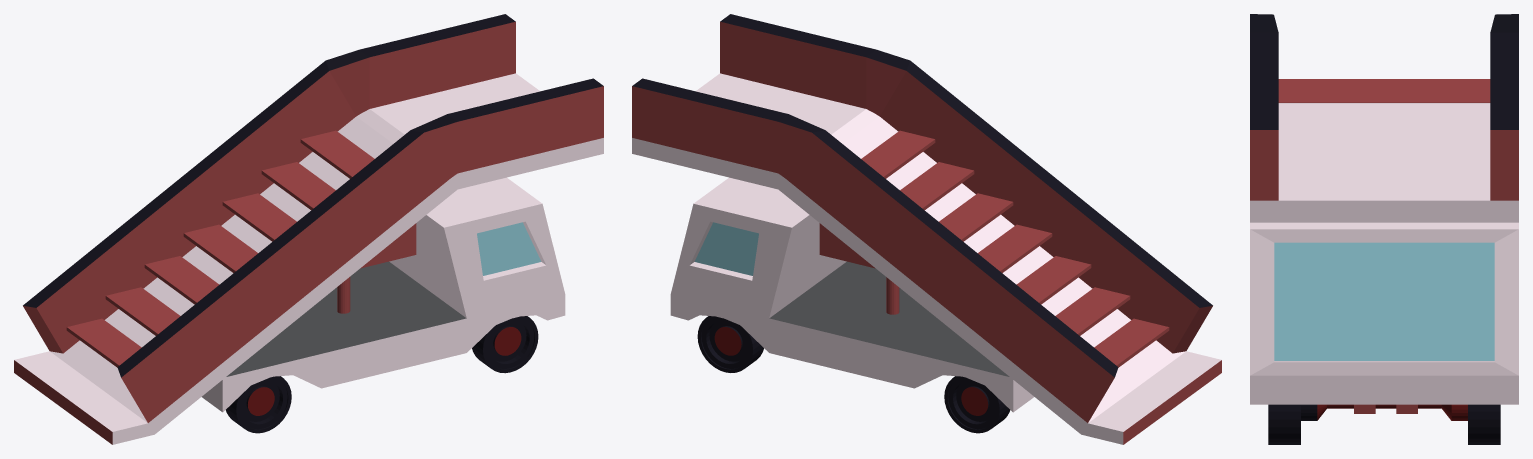
File: planestaircar.fbx
The picture shows the model from 3 angles, left to right: view 1: azimuth 30°, elevation 25°; view 2: azimuth 150°, elevation 25°; view 3: azimuth 270°, elevation 25°; orthographic projection. The views are drawn at different scales.
Visible parts, largest first — view 1: Cube.001; view 2: Cube.001; view 3: Cube.001.
Part boxes in pixels (left/top/right/bottom): Cube.001: left=14, top=14, right=603, bottom=444; Cube.001: left=632, top=14, right=1221, bottom=444; Cube.001: left=1250, top=14, right=1518, bottom=444.
Bounding box in the file's own units: 389 × 205 × 135.
